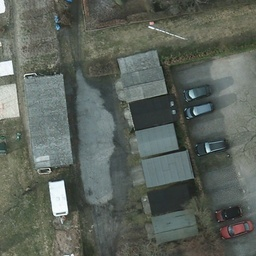car: (219, 219, 253, 240), (197, 138, 229, 156), (183, 83, 212, 101), (216, 204, 244, 222), (183, 102, 214, 118)
